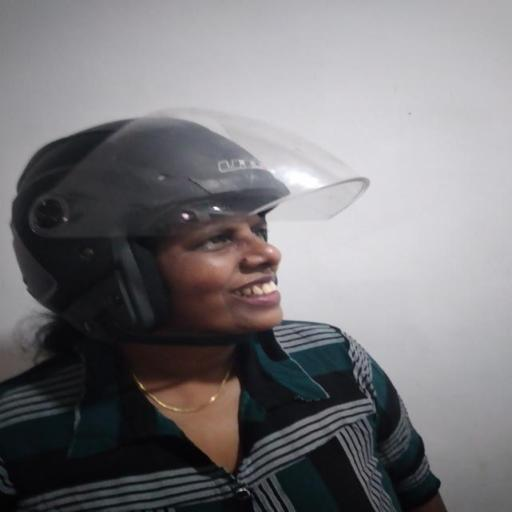with helmet: (10, 106, 374, 338)
